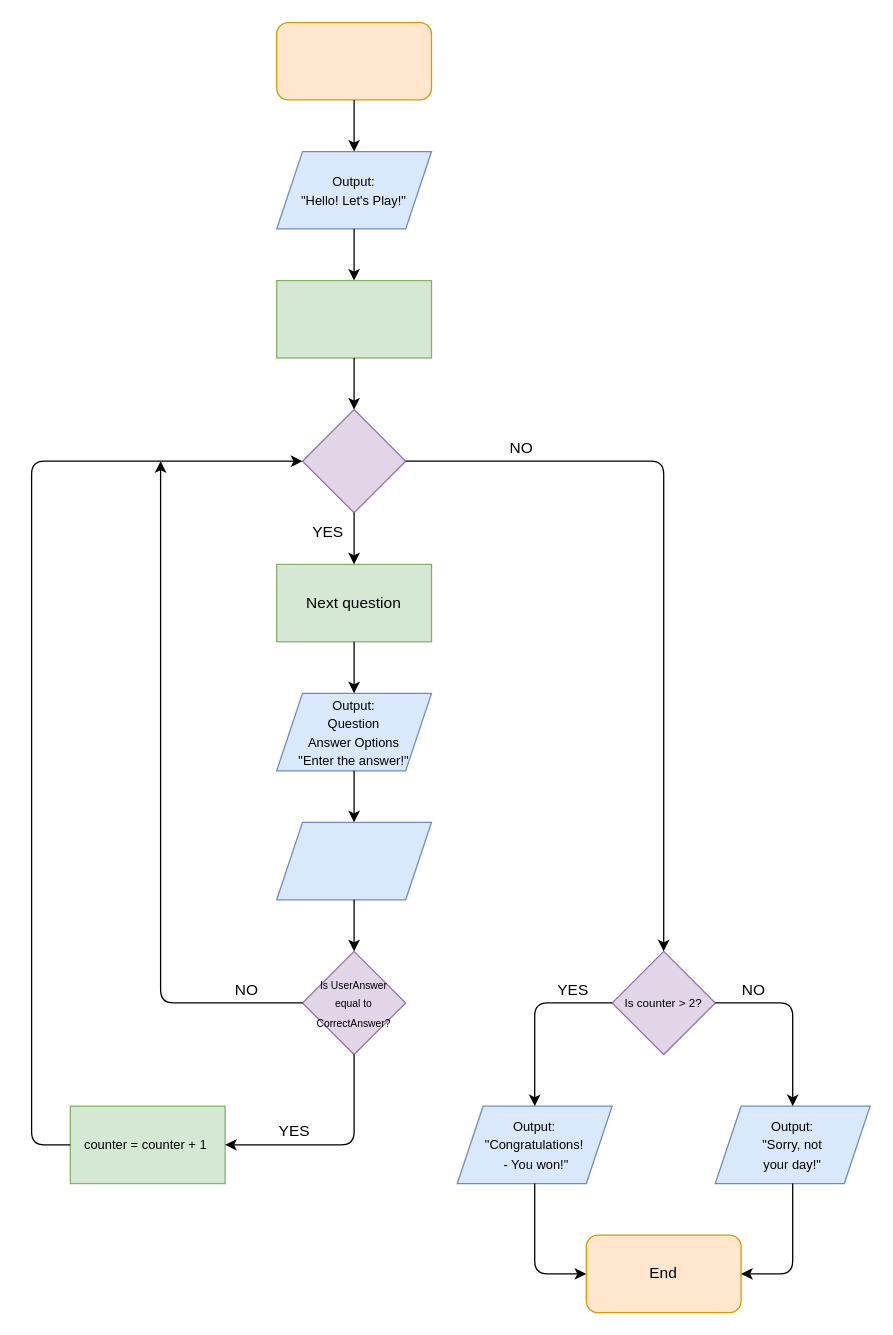
This 893x1335 diagram has some shape labels left out. Each missing label, with the box of its shape:
Are there not answered questions?: (301, 408, 406, 513)
counter = 0: (275, 279, 432, 358)
Input: UserAnswer: (275, 821, 432, 900)
Start: (275, 21, 432, 100)
